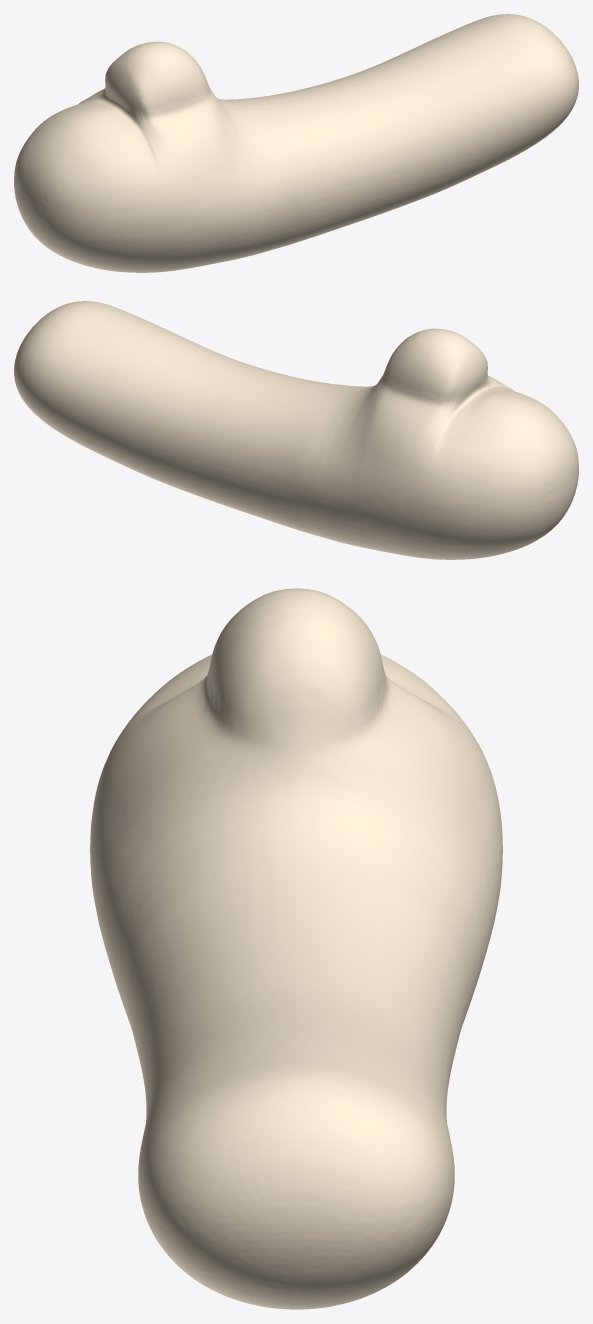
The model's file is left-arm.glb.
The picture shows the model from 3 angles, top to bottom: view 1: azimuth 30°, elevation 25°; view 2: azimuth 150°, elevation 25°; view 3: azimuth 270°, elevation 25°; orthographic projection. The views are drawn at different scales.
Parts seen in each view (by area): view 1: Arm_L; view 2: Arm_L; view 3: Arm_L.
Boxes of the visible parts, box(x1,y1,x2,y2) form: Arm_L: box(14, 14, 578, 272); Arm_L: box(14, 301, 578, 559); Arm_L: box(90, 588, 502, 1309).
Bounding box in the file's own units: 43.04 × 16.93 × 14.35.
